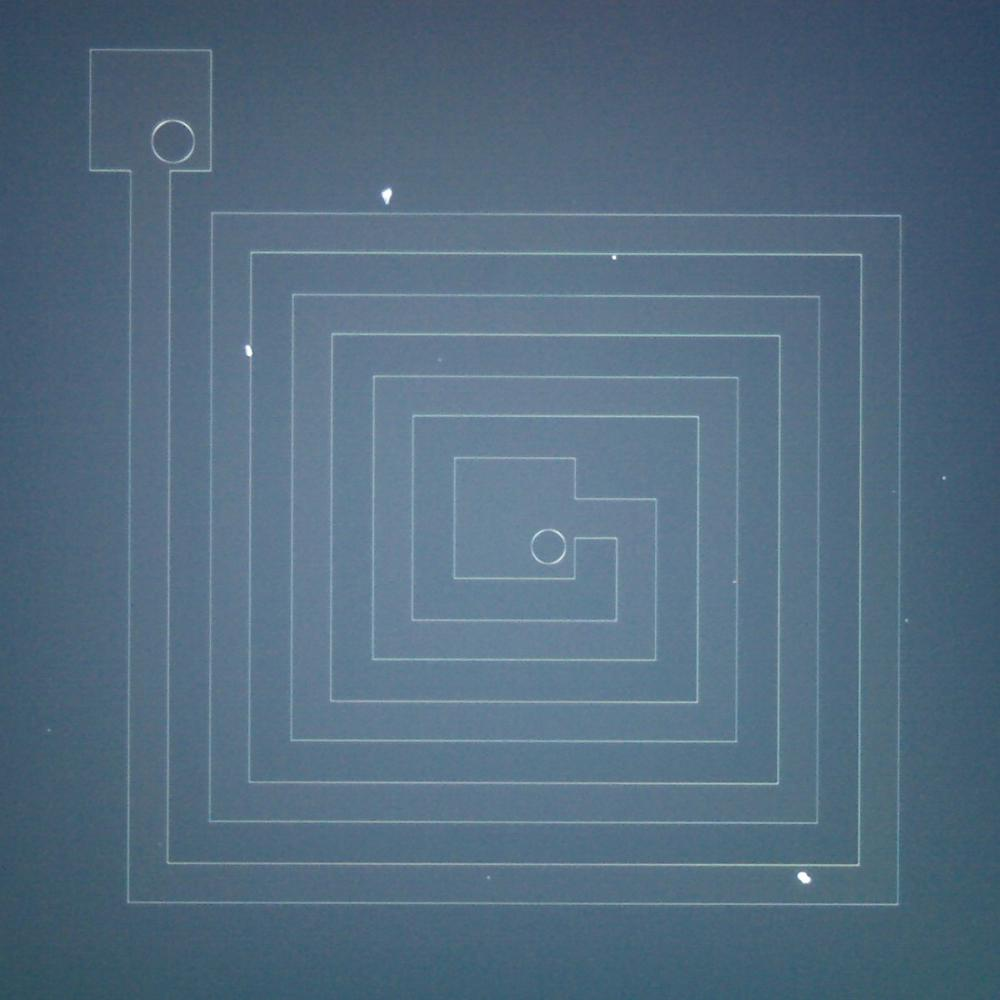dot: (797, 870, 812, 886), (380, 190, 394, 204), (243, 344, 254, 357), (486, 875, 492, 881), (942, 476, 948, 482), (612, 255, 616, 260)
